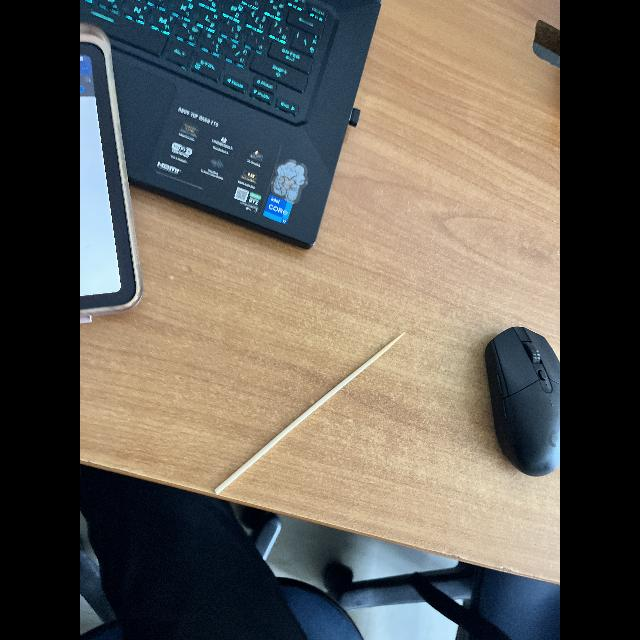stick: (194, 326, 416, 510)
